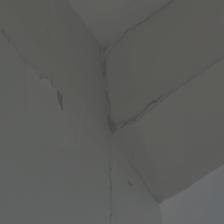High: (3, 1, 221, 216)
